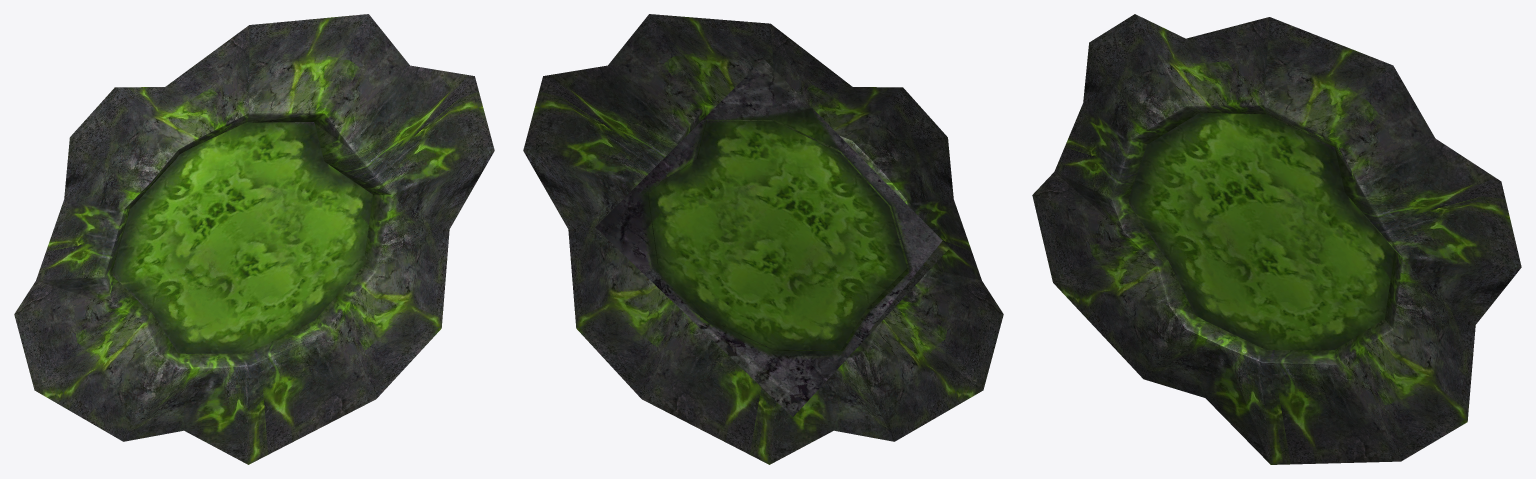
The model's file is beiou_yewai_30_common_zhaoze_01.obj.
3 views of the same model, side by side, from view 1: azimuth 30°, elevation 25°; view 2: azimuth 150°, elevation 25°; view 3: azimuth 330°, elevation 25° (orthographic).
Visible parts, largest first — view 1: beiou_yewai_30_common_zhaoze_01; view 2: beiou_yewai_30_common_zhaoze_01; view 3: beiou_yewai_30_common_zhaoze_01.
Part boxes in pixels (x1,y1,x2,y2): beiou_yewai_30_common_zhaoze_01: (14,14,494,464); beiou_yewai_30_common_zhaoze_01: (523,14,1003,464); beiou_yewai_30_common_zhaoze_01: (1032,14,1521,464).
Bounding box in the file's own units: 379 × 332 × 10.48.
1 material, 1 textured.
